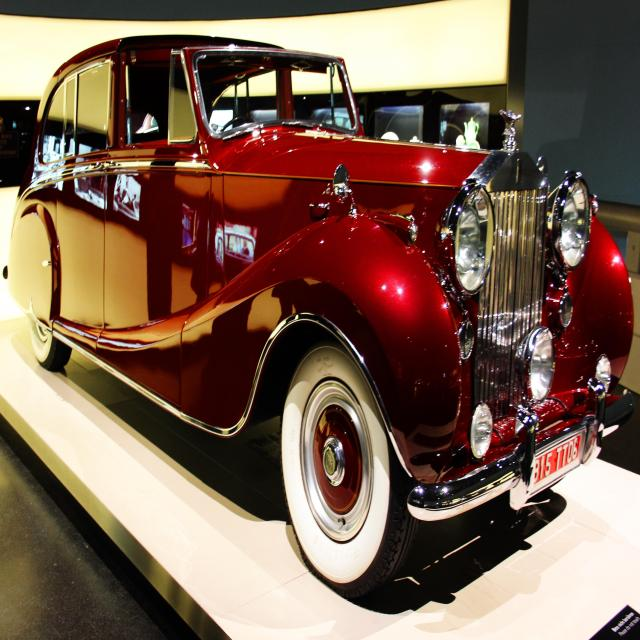cars8: (2, 28, 639, 602)
